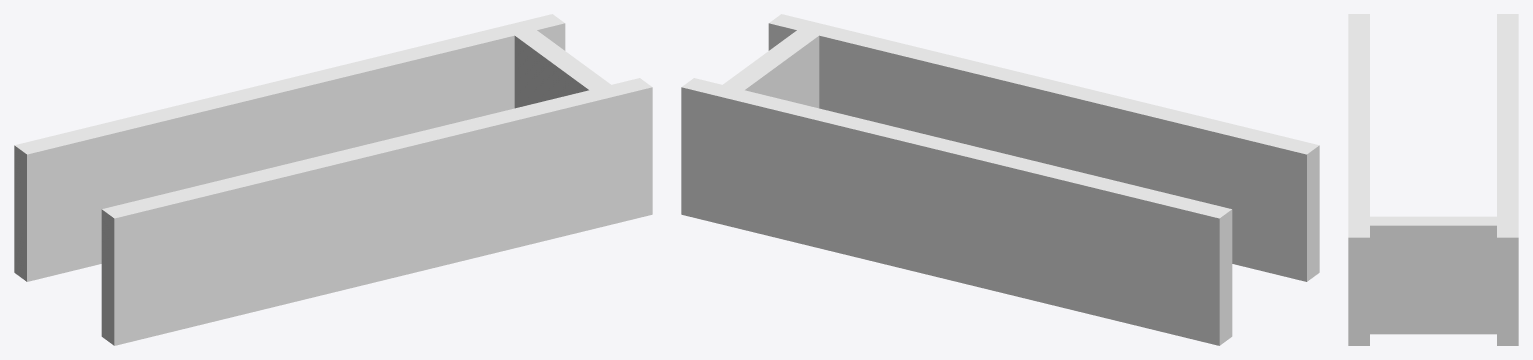
The model's file is lab_butorlaplab_15cm.glb.
3 renders of one model, left to right at view 1: azimuth 30°, elevation 25°; view 2: azimuth 150°, elevation 25°; view 3: azimuth 270°, elevation 25°, orthographic. The views are drawn at different scales.
Parts seen in each view (by area): view 1: leg_standard; view 2: leg_standard; view 3: leg_standard.
Part boxes in pixels (box(x1,y1,x2,y2)): leg_standard: box(14, 14, 652, 345); leg_standard: box(681, 14, 1319, 345); leg_standard: box(1348, 14, 1518, 345).
Size of the model in its own units: 0.464 by 0.105 by 0.1495.
1 material, 1 textured.
